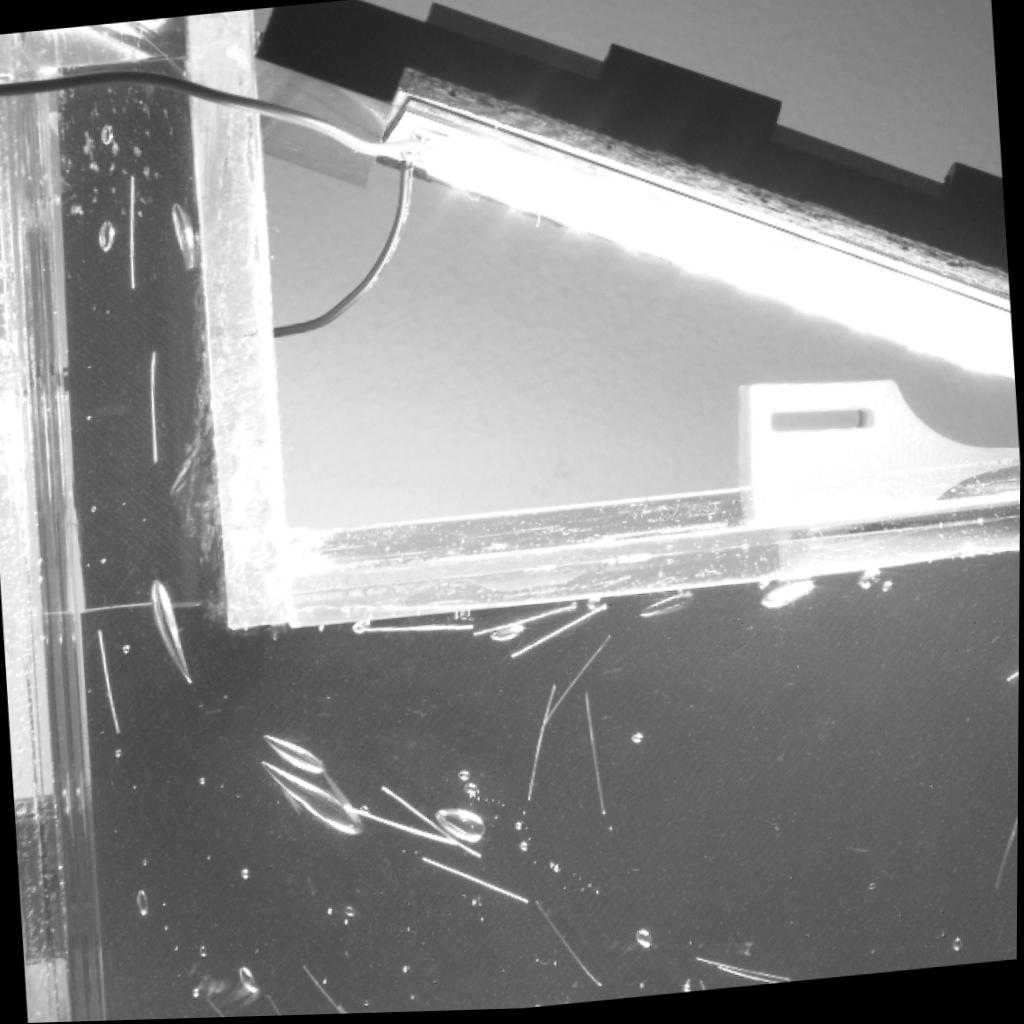Fiber: (374, 780, 488, 866), (538, 629, 618, 733), (533, 902, 609, 997), (416, 856, 533, 912), (341, 801, 457, 854), (507, 604, 611, 663), (520, 684, 561, 804), (468, 604, 579, 644), (580, 693, 611, 825), (122, 23, 185, 84), (94, 625, 124, 743), (985, 802, 1019, 906), (694, 960, 801, 987), (297, 964, 351, 1016), (146, 350, 160, 472), (359, 624, 477, 638), (125, 171, 136, 293), (717, 970, 783, 989), (199, 991, 228, 1019), (260, 991, 288, 1017), (995, 667, 1020, 694)
